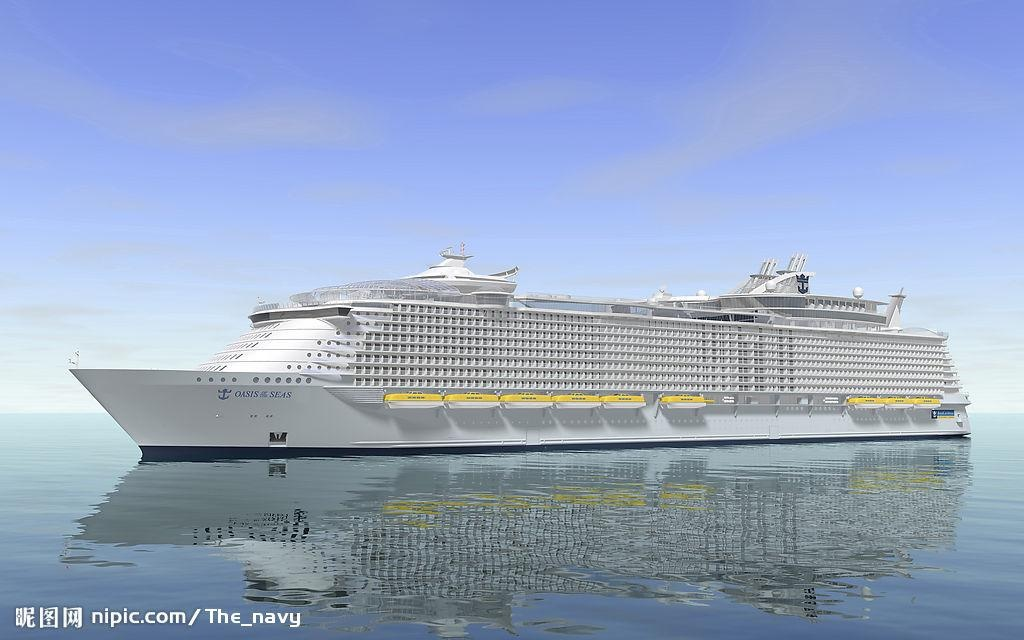youlun: (67, 230, 981, 462)
